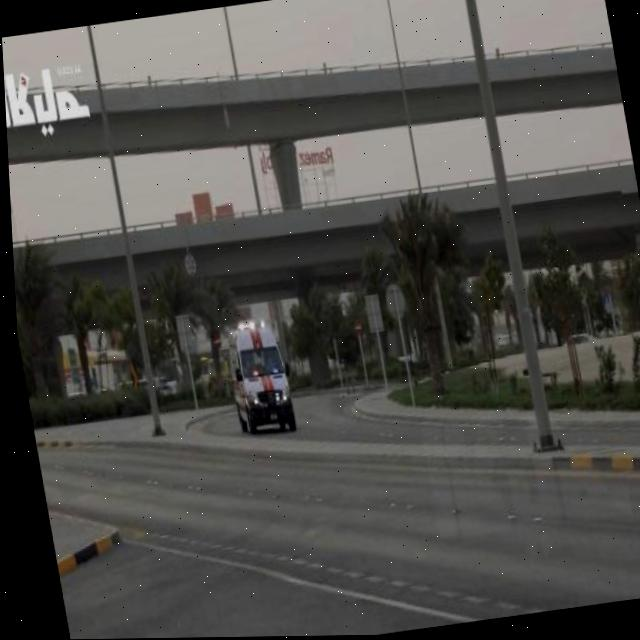emergency: (213, 309, 299, 443)
